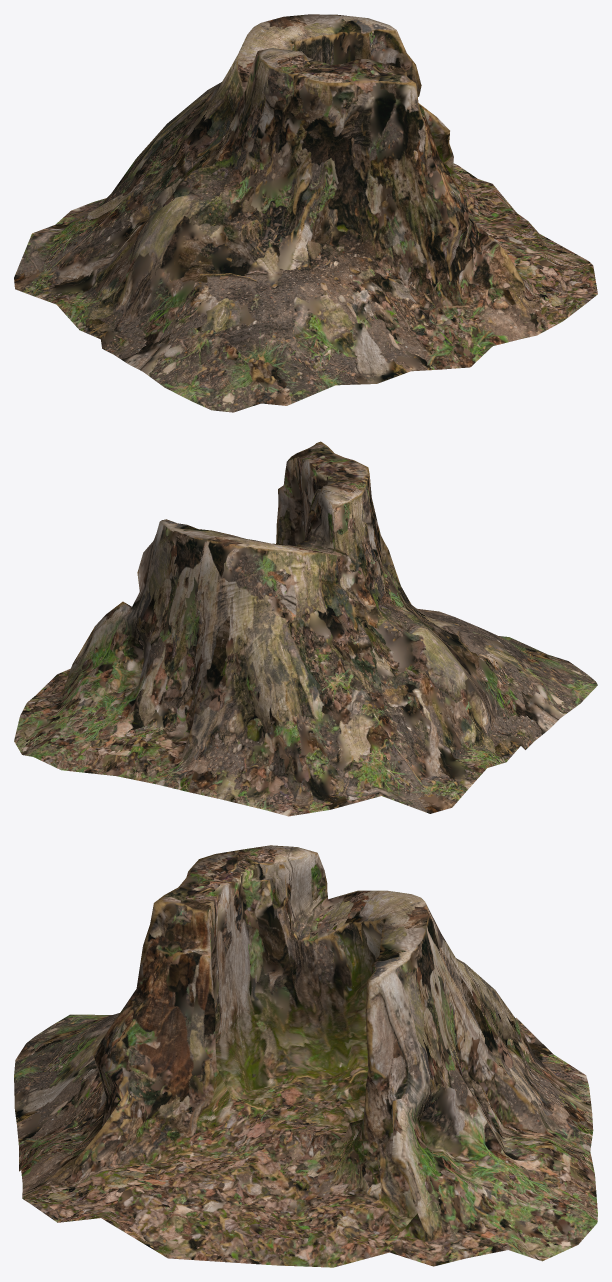
Rendered from Prop_Nature_Tree_Body.fbx.
3 views of the same model, one above another, from view 1: azimuth 30°, elevation 25°; view 2: azimuth 150°, elevation 25°; view 3: azimuth 270°, elevation 25° (orthographic). The views are drawn at different scales.
Parts seen in each view (by area): view 1: Prop_Nature_Tree_Body; view 2: Prop_Nature_Tree_Body; view 3: Prop_Nature_Tree_Body.
Boxes of the visible parts, x1,y1,x2,y2 form: Prop_Nature_Tree_Body: (14,14,597,412); Prop_Nature_Tree_Body: (14,441,597,816); Prop_Nature_Tree_Body: (14,845,597,1267).
Size of the model in its own units: 130 by 66.6 by 126.
